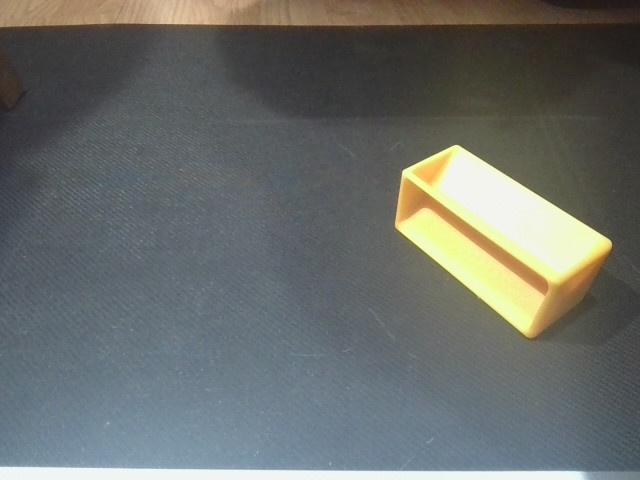YellowSample: (389, 142, 616, 343)
